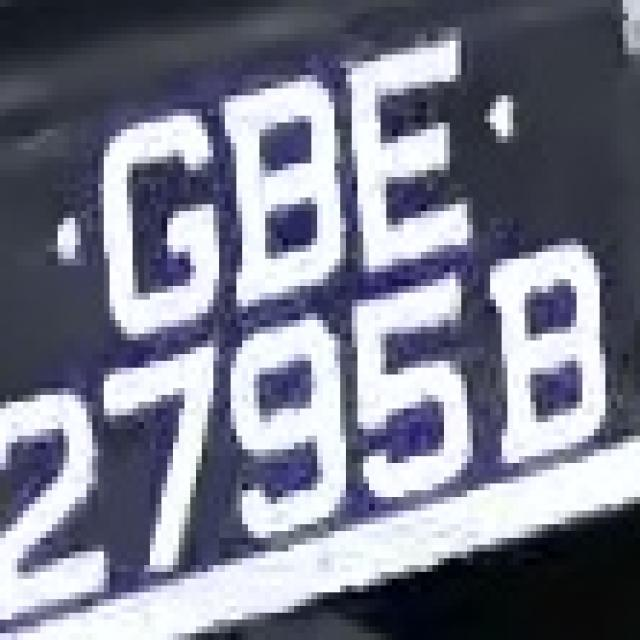2: (0, 360, 138, 633)
5: (340, 266, 479, 497)
7: (80, 334, 230, 586)
9: (213, 300, 352, 544)
B: (472, 225, 622, 483), (202, 68, 352, 313)
E: (334, 34, 484, 266)
G: (75, 102, 219, 341)
